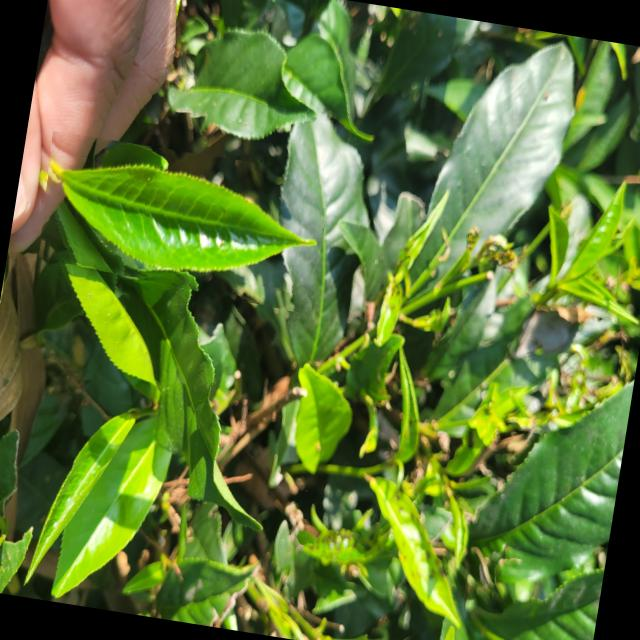Catagory A(1-2 days): (29, 130, 332, 316)
